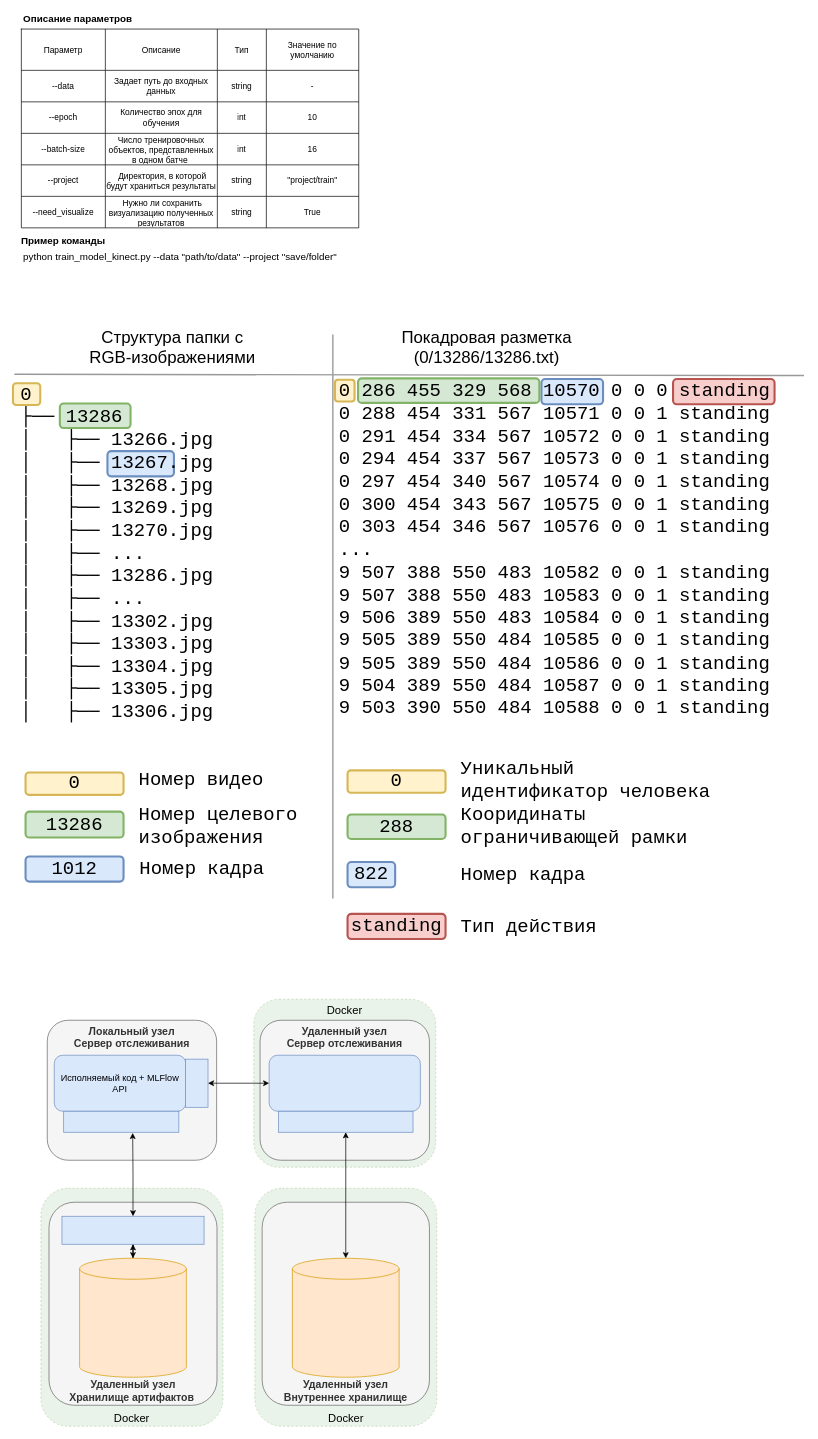
This 818x1439 diagram has some shape labels left out. Each missing label, with the centre of its shape:
boto3: point 121,1121
MLFlow API: point 196,1082
MLFlow Сервер отслеживания: point 344,1083
nginx: point 132,1230
PostgresSQL: point 345,1317
S3 хранилище Minio: point 132,1317
SQLAlchemy: point 345,1121
